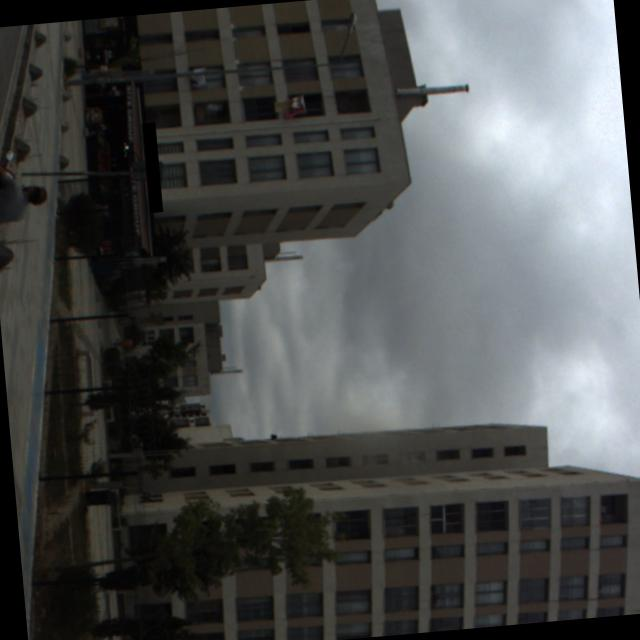SignStore: (141, 122, 161, 213)
